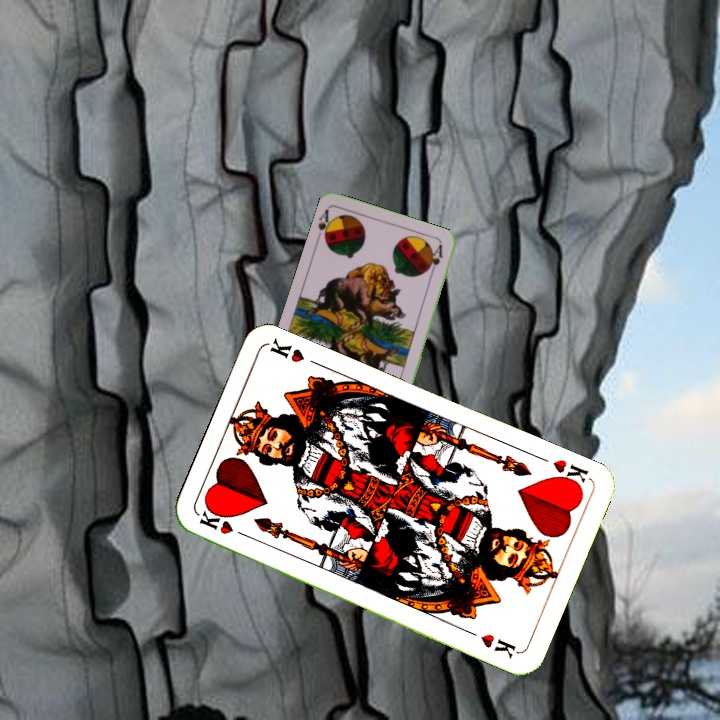HK: (195, 506, 252, 541), (548, 455, 591, 492)
SA: (314, 205, 337, 247)
